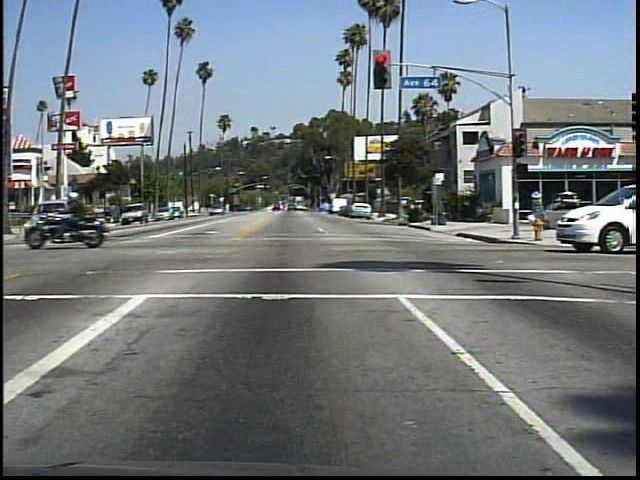person: (67, 189, 103, 241), (524, 186, 550, 220)
